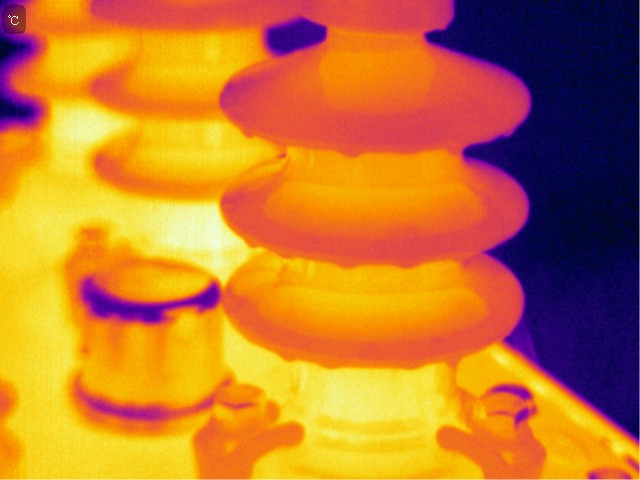Oil: (233, 114, 263, 145), (496, 111, 518, 149), (398, 350, 427, 378), (445, 345, 470, 375), (334, 141, 369, 160), (428, 16, 457, 37), (390, 256, 424, 271), (332, 257, 360, 272), (321, 357, 346, 373), (274, 347, 299, 363), (241, 236, 262, 251)
